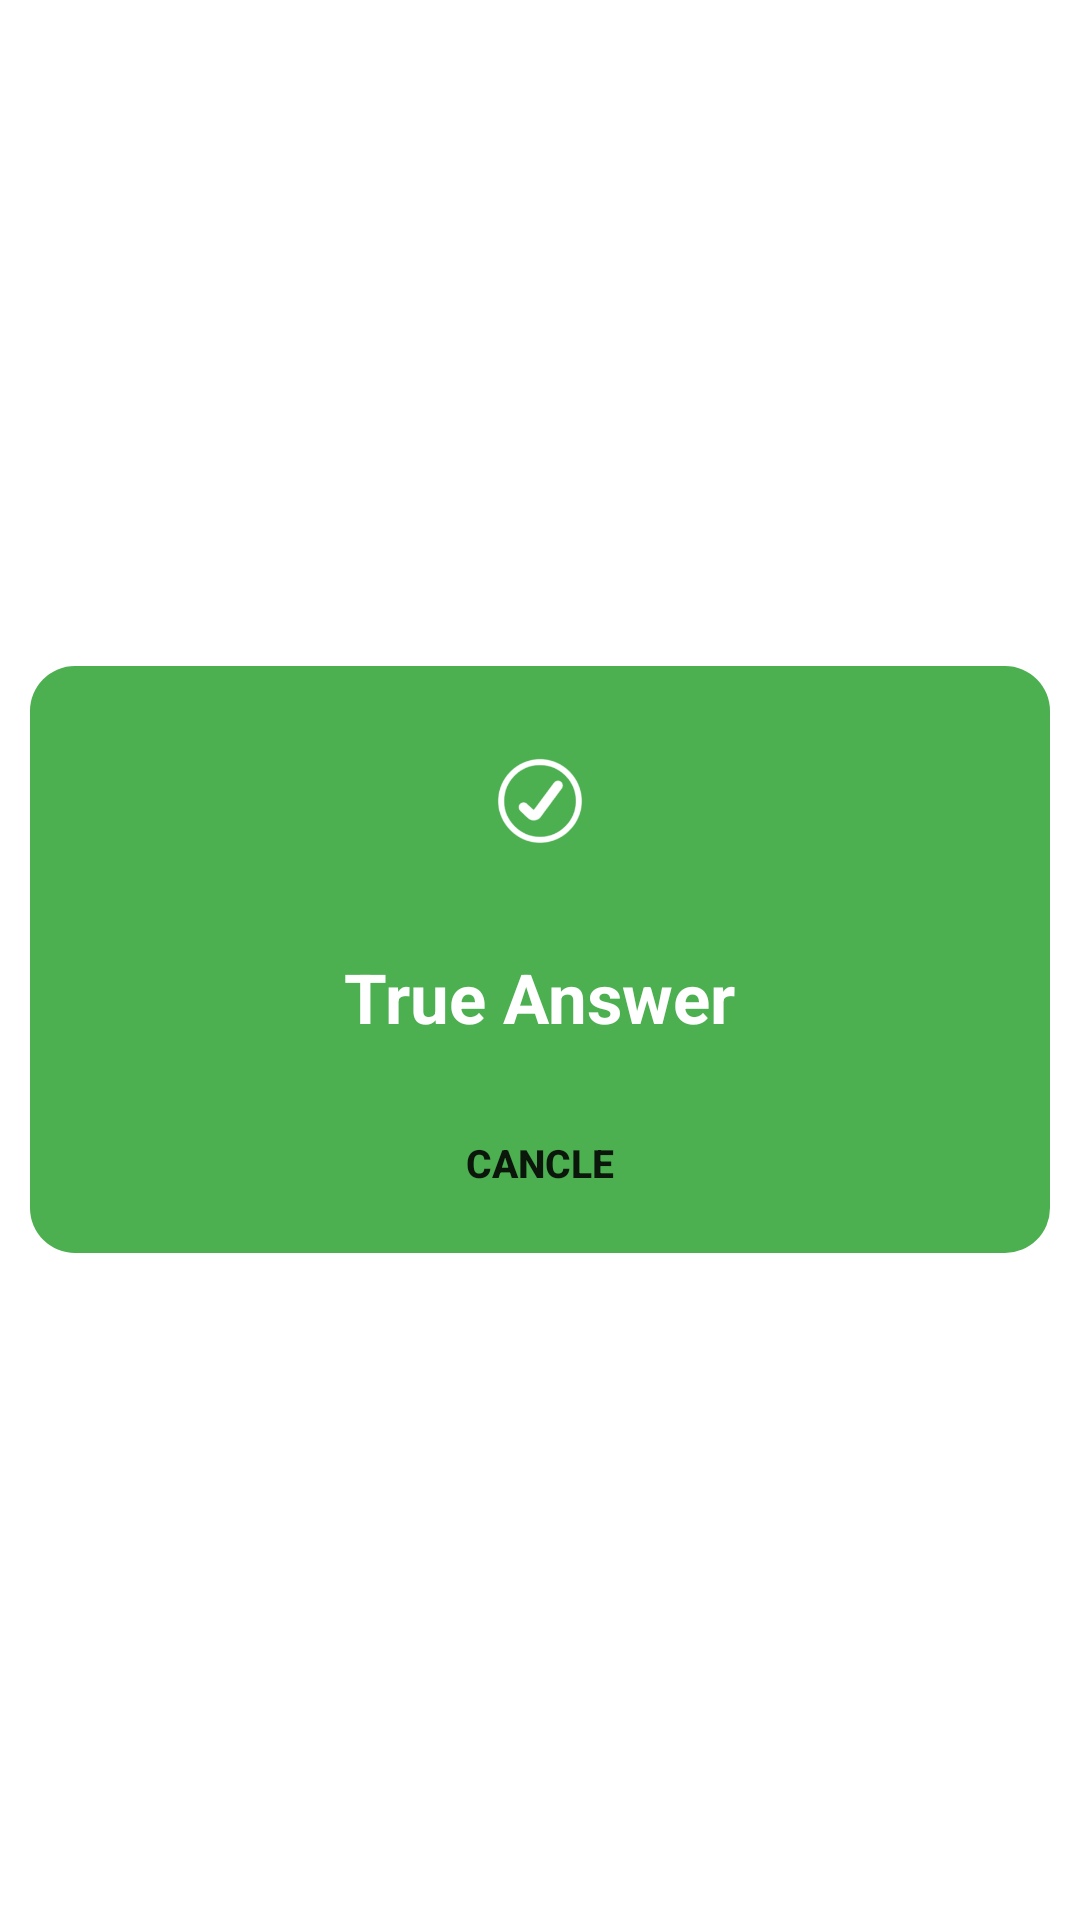

Screen size 1080 × 1920. Icon name, then its box in pixels as (x1, y1, x2, y2):
trrue: (498, 759, 582, 843)
